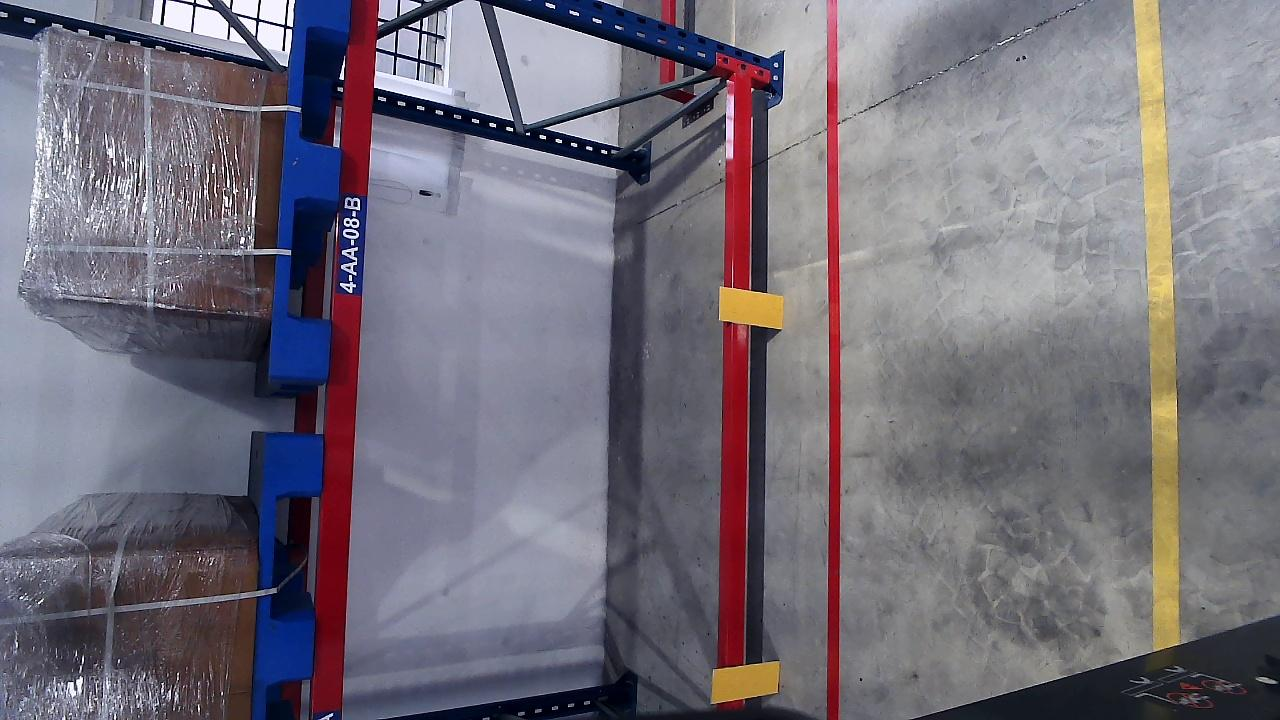h_rack: (314, 0, 383, 711), (716, 74, 757, 713)
orange_strip: (711, 660, 780, 702), (719, 287, 784, 329)
red_line: (822, 11, 837, 720)
small_pallet: (271, 0, 351, 377), (258, 429, 324, 717)
yellow_line: (1138, 0, 1180, 640)
